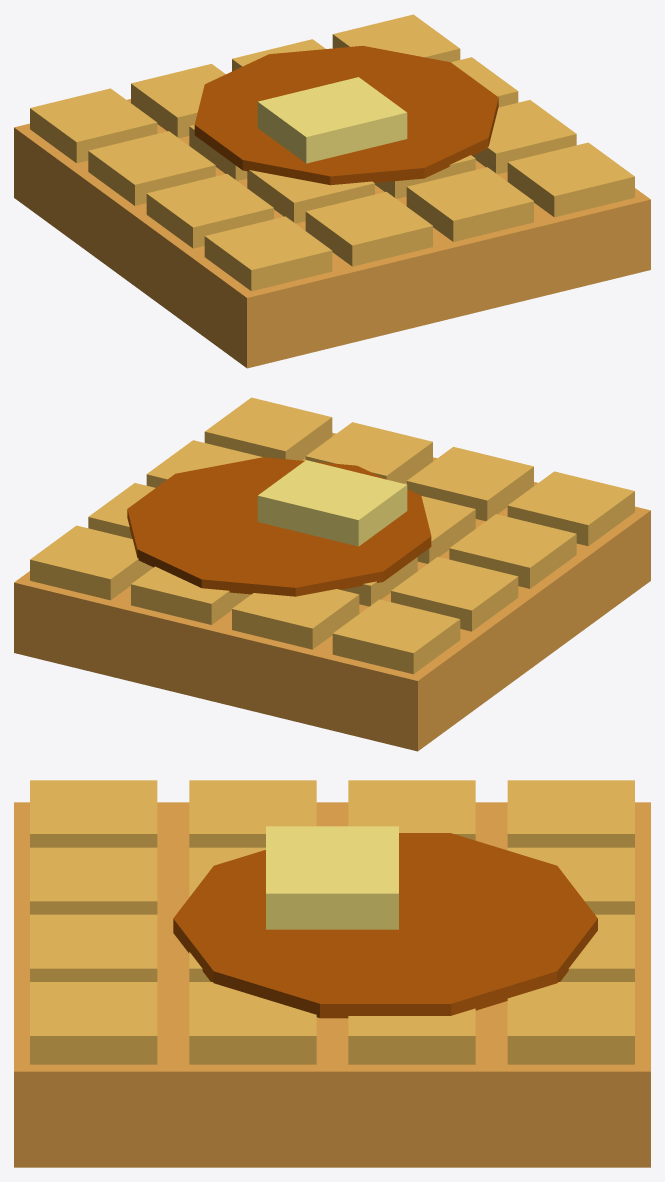
Rendered from waffle.glb.
3 renders of one model, top to bottom at view 1: azimuth 30°, elevation 25°; view 2: azimuth 150°, elevation 25°; view 3: azimuth 270°, elevation 25°, orthographic. The views are drawn at different scales.
Visible parts, largest first — view 1: waffle; view 2: waffle; view 3: waffle.
Boxes of the visible parts, box(x1,y1,x2,y2) form: waffle: box(14, 14, 650, 368); waffle: box(14, 397, 650, 751); waffle: box(14, 780, 650, 1167).
Bounding box in the file's own units: 0.12 × 0.036 × 0.12.
